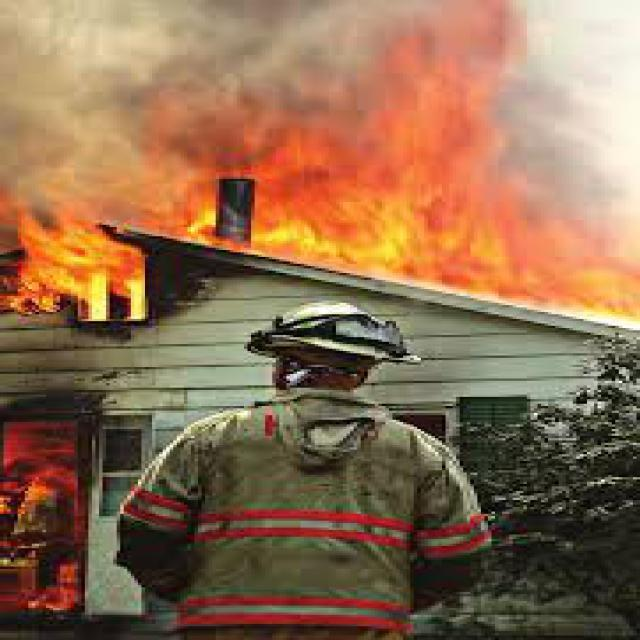Fire: (0, 43, 620, 330), (5, 412, 102, 615)
Smoke: (7, 10, 310, 140), (504, 35, 618, 213)
